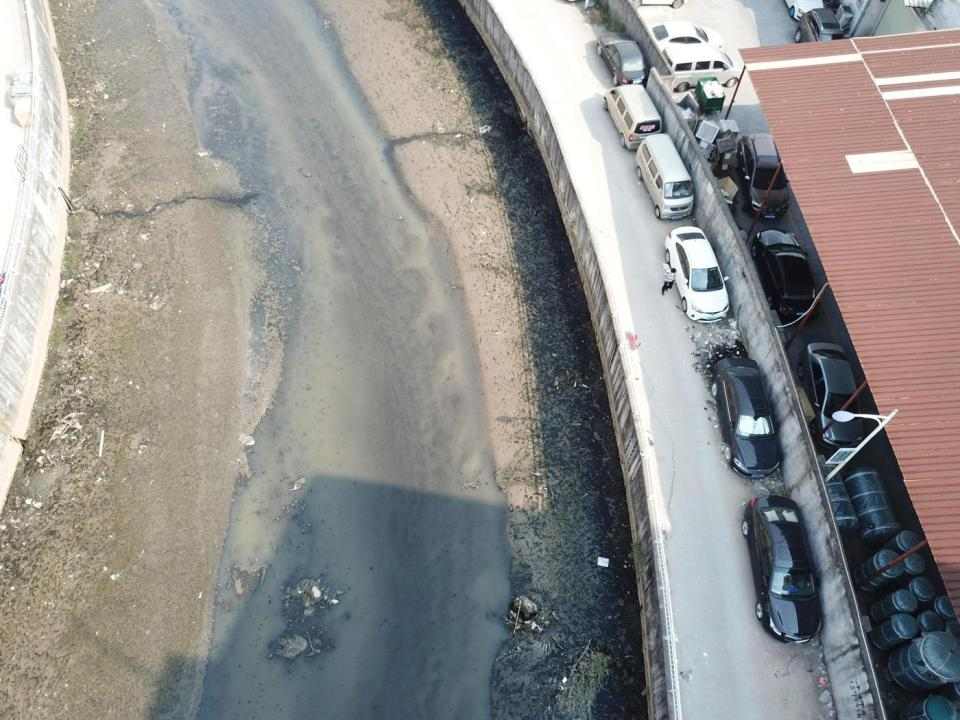car: (741, 494, 824, 643), (709, 357, 782, 477), (796, 342, 864, 450), (750, 228, 820, 322), (663, 226, 730, 323), (733, 132, 791, 219), (596, 32, 652, 86), (794, 8, 850, 62), (642, 21, 724, 55)
van: (635, 132, 693, 219), (659, 44, 743, 92), (604, 83, 663, 150)
